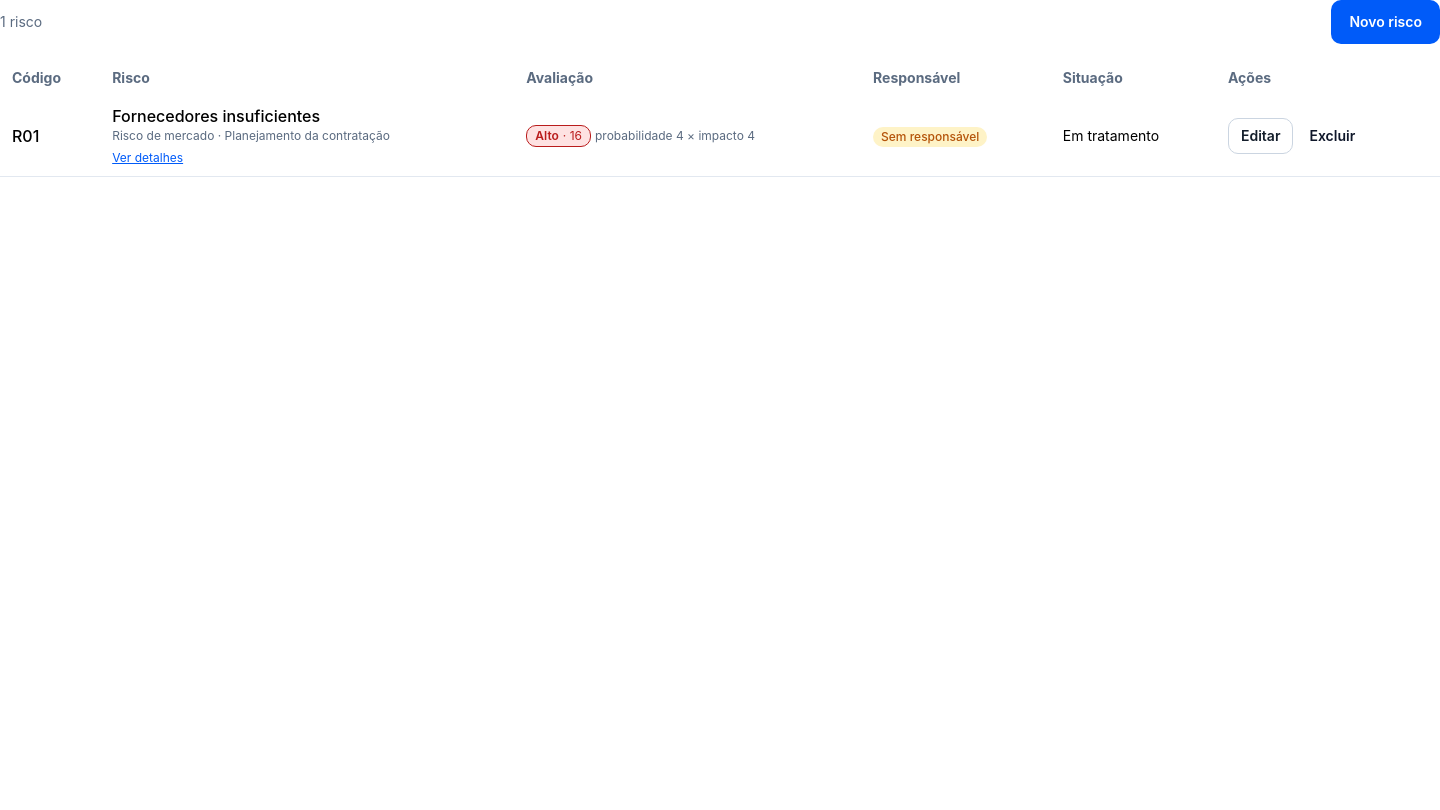
Test case: SCR-011 · ações de tratamento (US-034) › [Sucesso] reordenar (FA-02) e excluir com If-Match
This screenshot has width=1440, height=810.
Click the button with aria-label "Ver detalhes R01" at (148, 158), box [112,150,183,166]
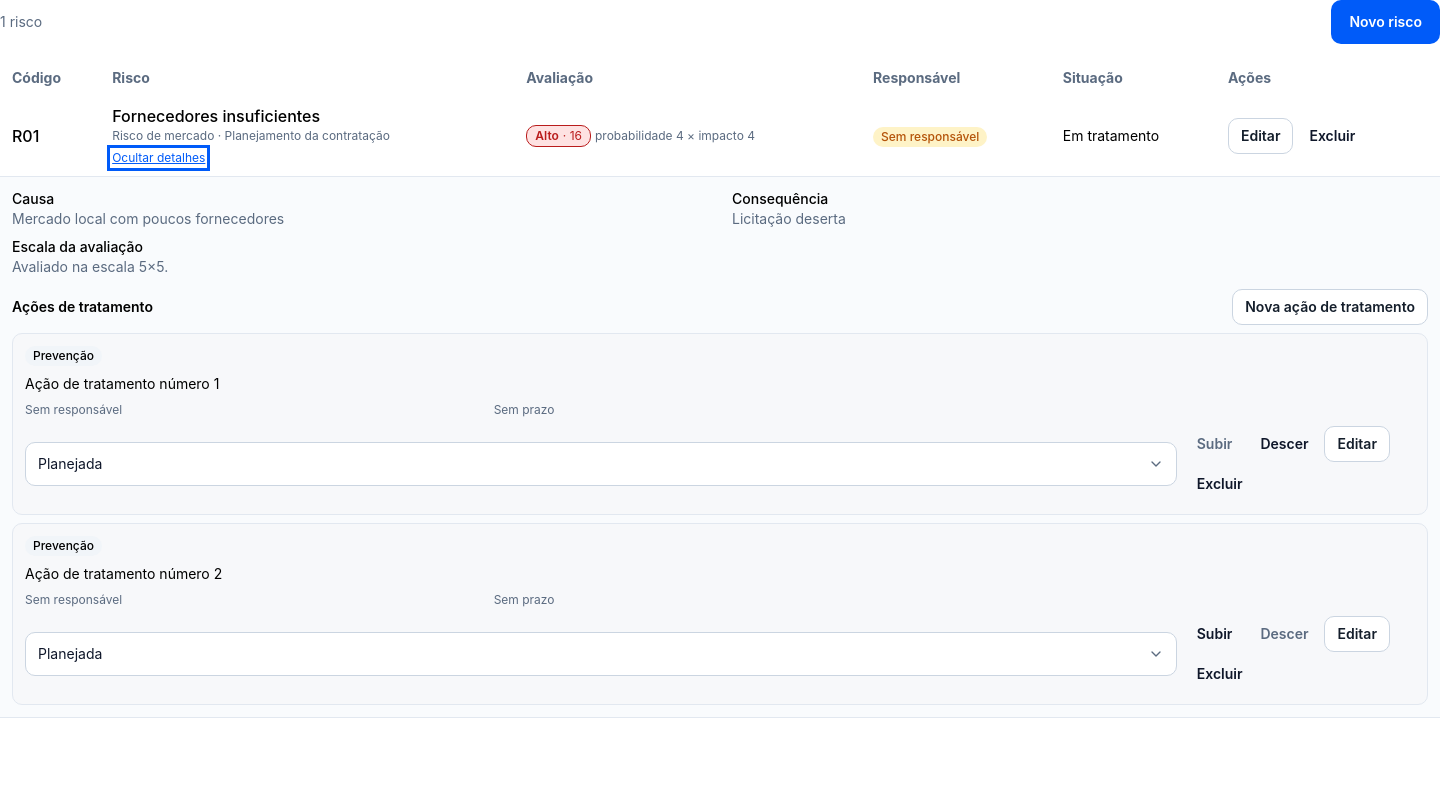
Result: the button with aria-label "Mover a ação 1 do risco R01 para cima" is disabled at [1185,426,1244,462]
Click the button with aria-label "Mover a ação 2 do risco R01 para cima" at (1215, 634), box [1185,616,1244,652]
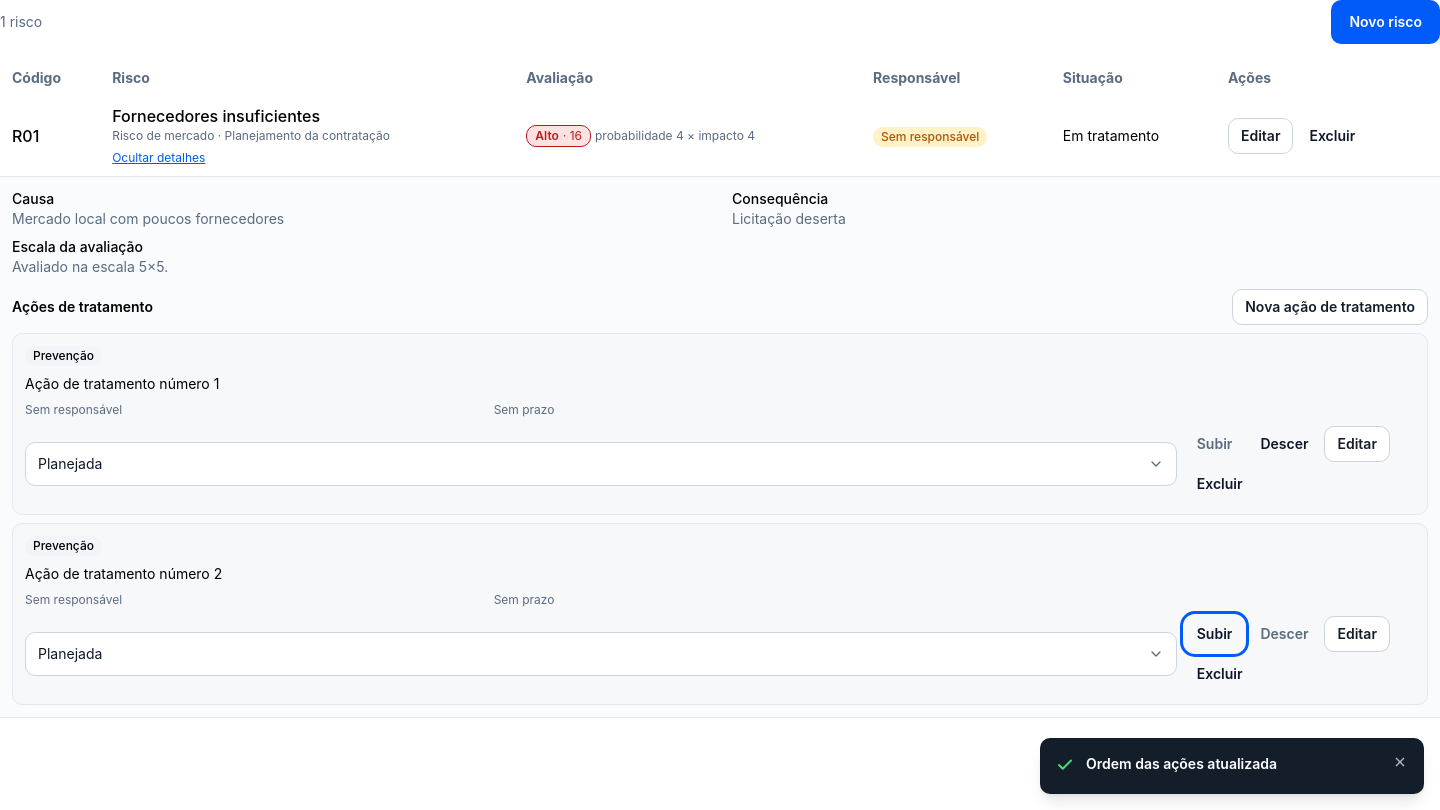
Result: the text "Ordem das ações atualizada" is shown at [1086,755,1277,772]
Click the button with aria-label "Excluir a ação 1 do risco R01" at (1220, 484), box [1185,466,1255,502]
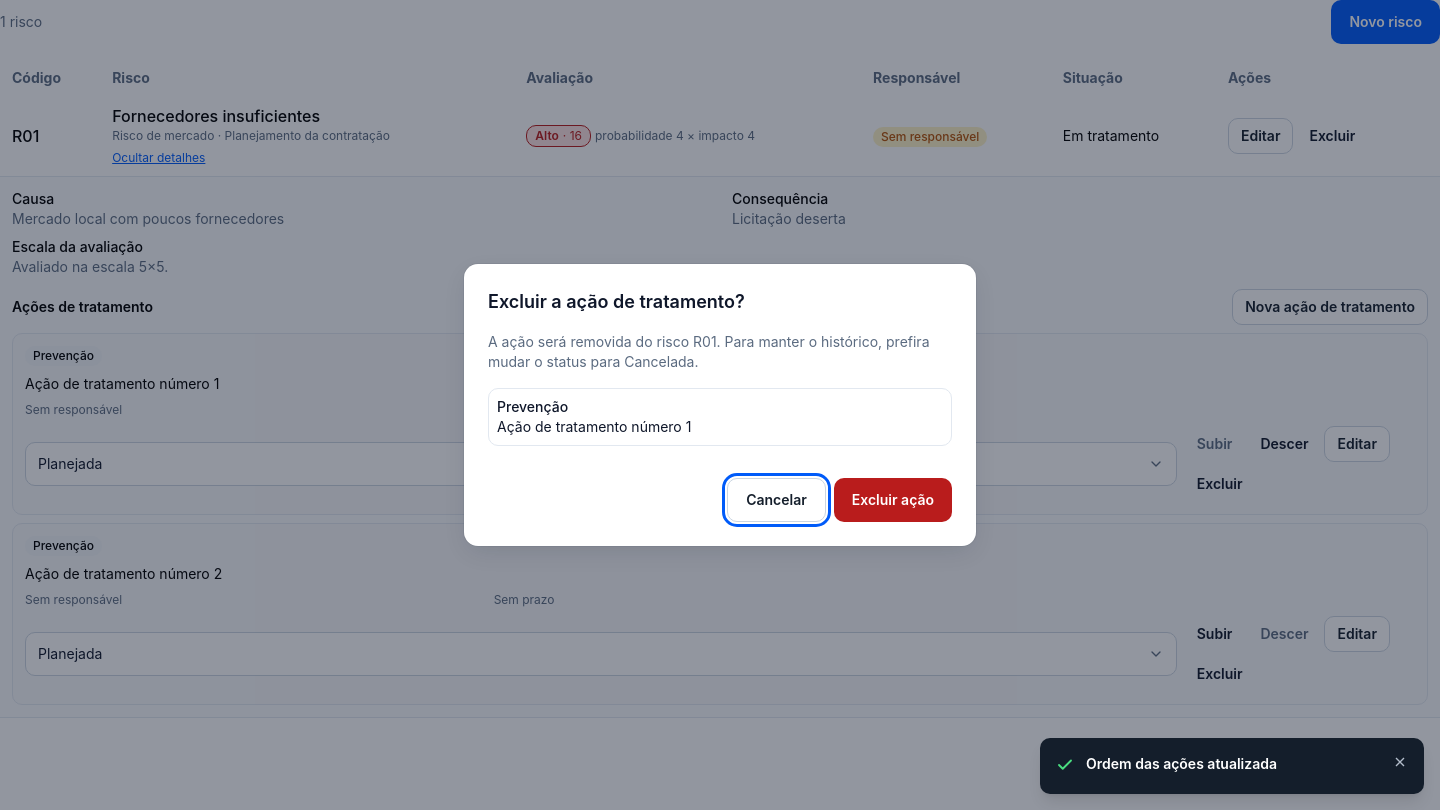
Result: the text "prefira mudar o status para Cancelada" is shown at [488,333,930,370]
Click the button "Excluir ação" at (893, 500), box [834,478,952,522]
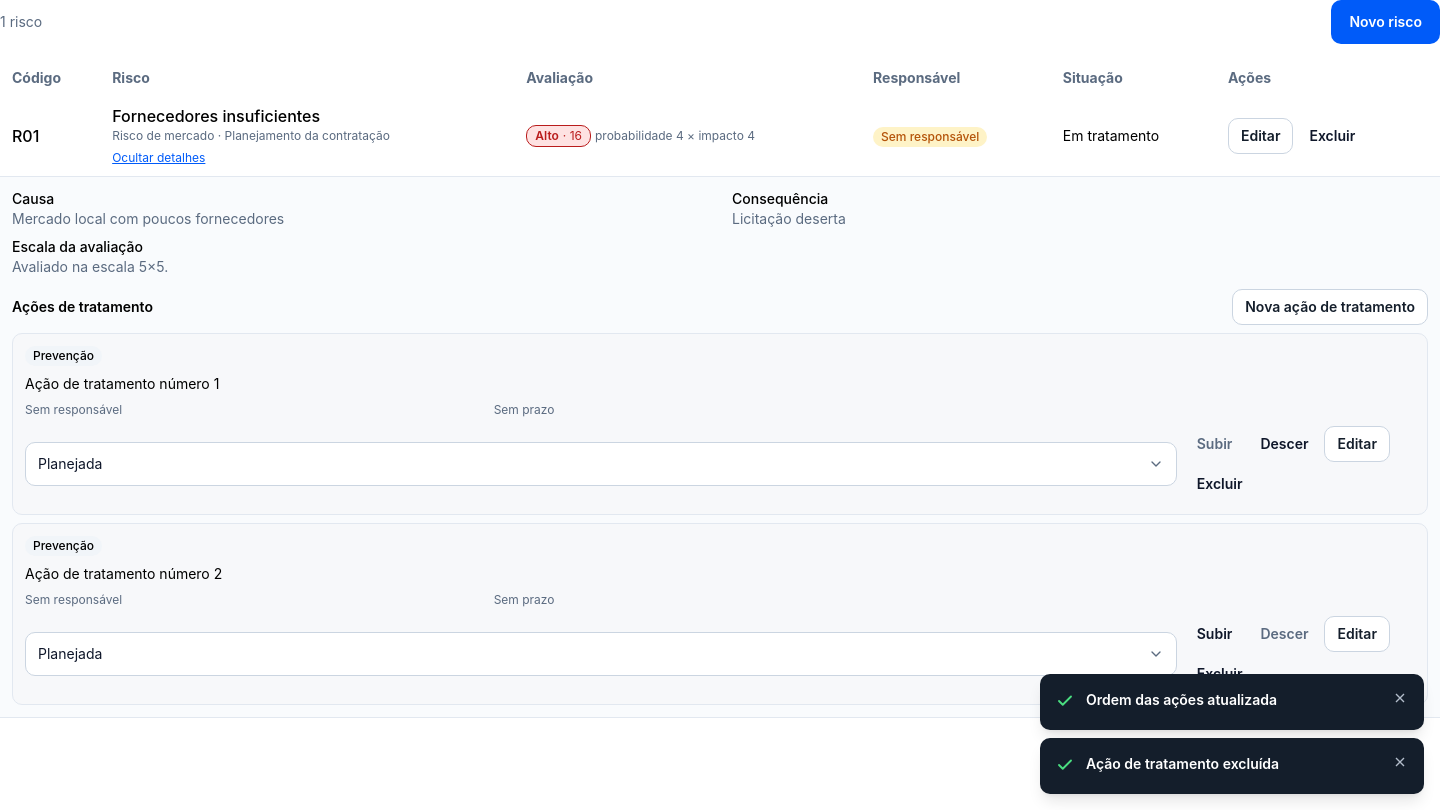
Result: the text "Ação de tratamento excluída" is shown at [1086,755,1279,772]
